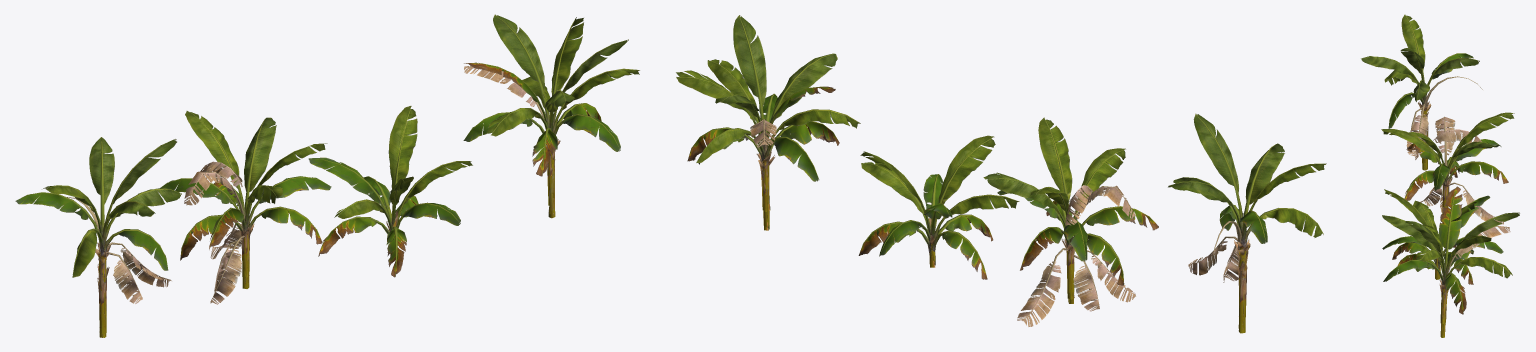
The model's file is banana.fbx.
3 views of the same model, side by side, from view 1: azimuth 30°, elevation 25°; view 2: azimuth 150°, elevation 25°; view 3: azimuth 270°, elevation 25° (orthographic). The views are drawn at different scales.
Visible parts, largest first — view 1: Banana.004, Banana.002, Banana.003, Banana.001; view 2: Banana.004, Banana.002, Banana.003, Banana.001; view 3: Banana.002, Banana.004, Banana.003, Banana.001.
Part boxes in pixels (box(x1,y1,x2,y2)): Banana.004: box(158, 111, 331, 304); Banana.002: box(463, 14, 639, 218); Banana.003: box(15, 137, 181, 337); Banana.001: box(308, 106, 472, 277); Banana.004: box(983, 117, 1158, 326); Banana.002: box(676, 15, 860, 230); Banana.003: box(1168, 113, 1326, 333); Banana.001: box(858, 135, 1019, 279); Banana.002: box(1382, 186, 1519, 337); Banana.004: box(1381, 112, 1514, 224); Banana.003: box(1361, 14, 1482, 170); Banana.001: box(1382, 189, 1503, 284).
Bounding box in the file's own units: 1575 × 491 × 489.
